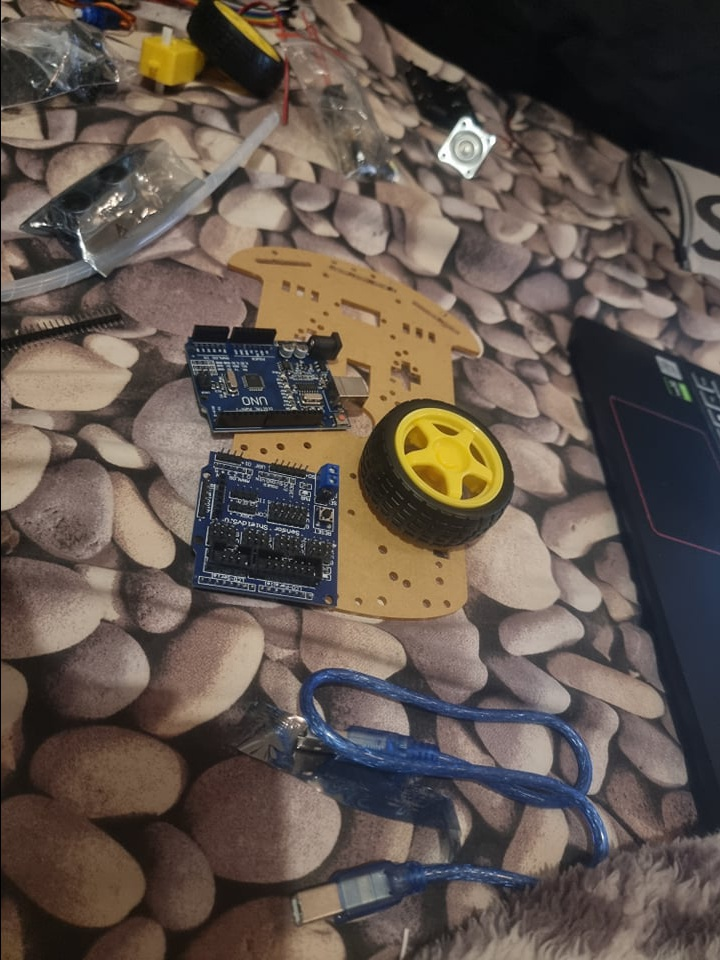5V EXPANSION: (191, 450, 337, 603)
BATTERY BOX: (396, 57, 473, 125)
UNO R3: (190, 320, 366, 438)
